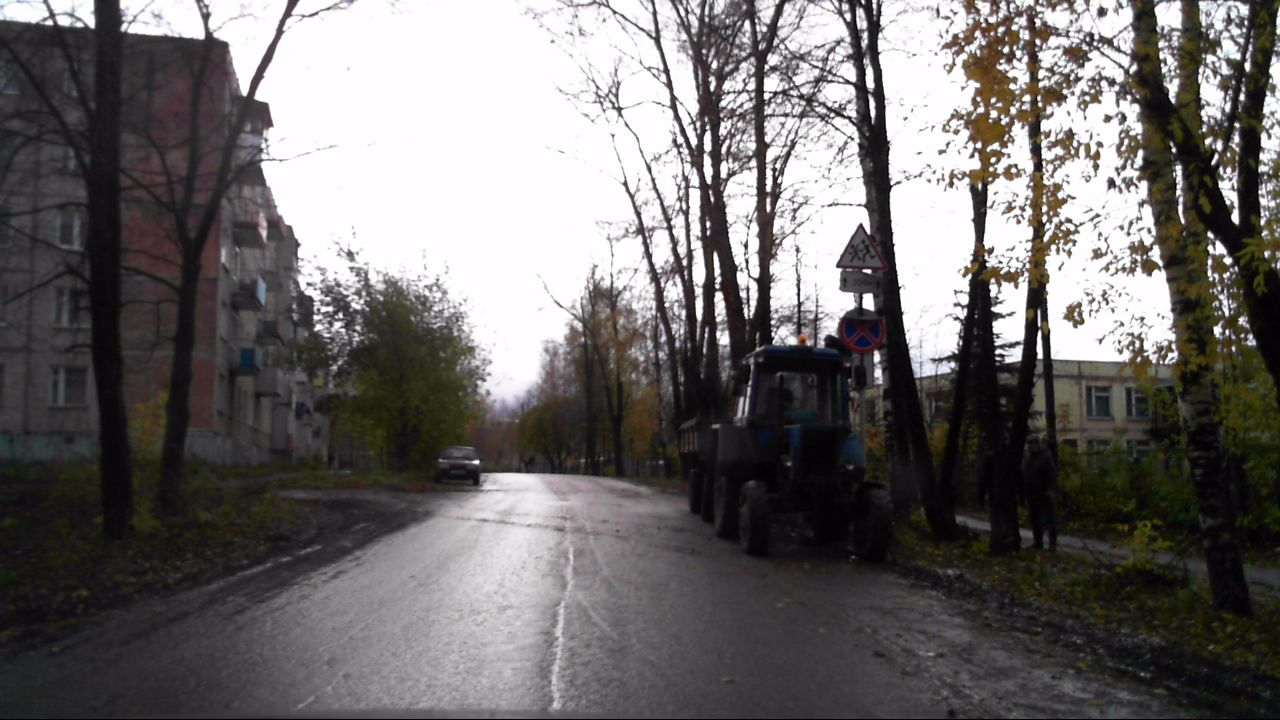No Parking: (837, 316, 884, 352)
